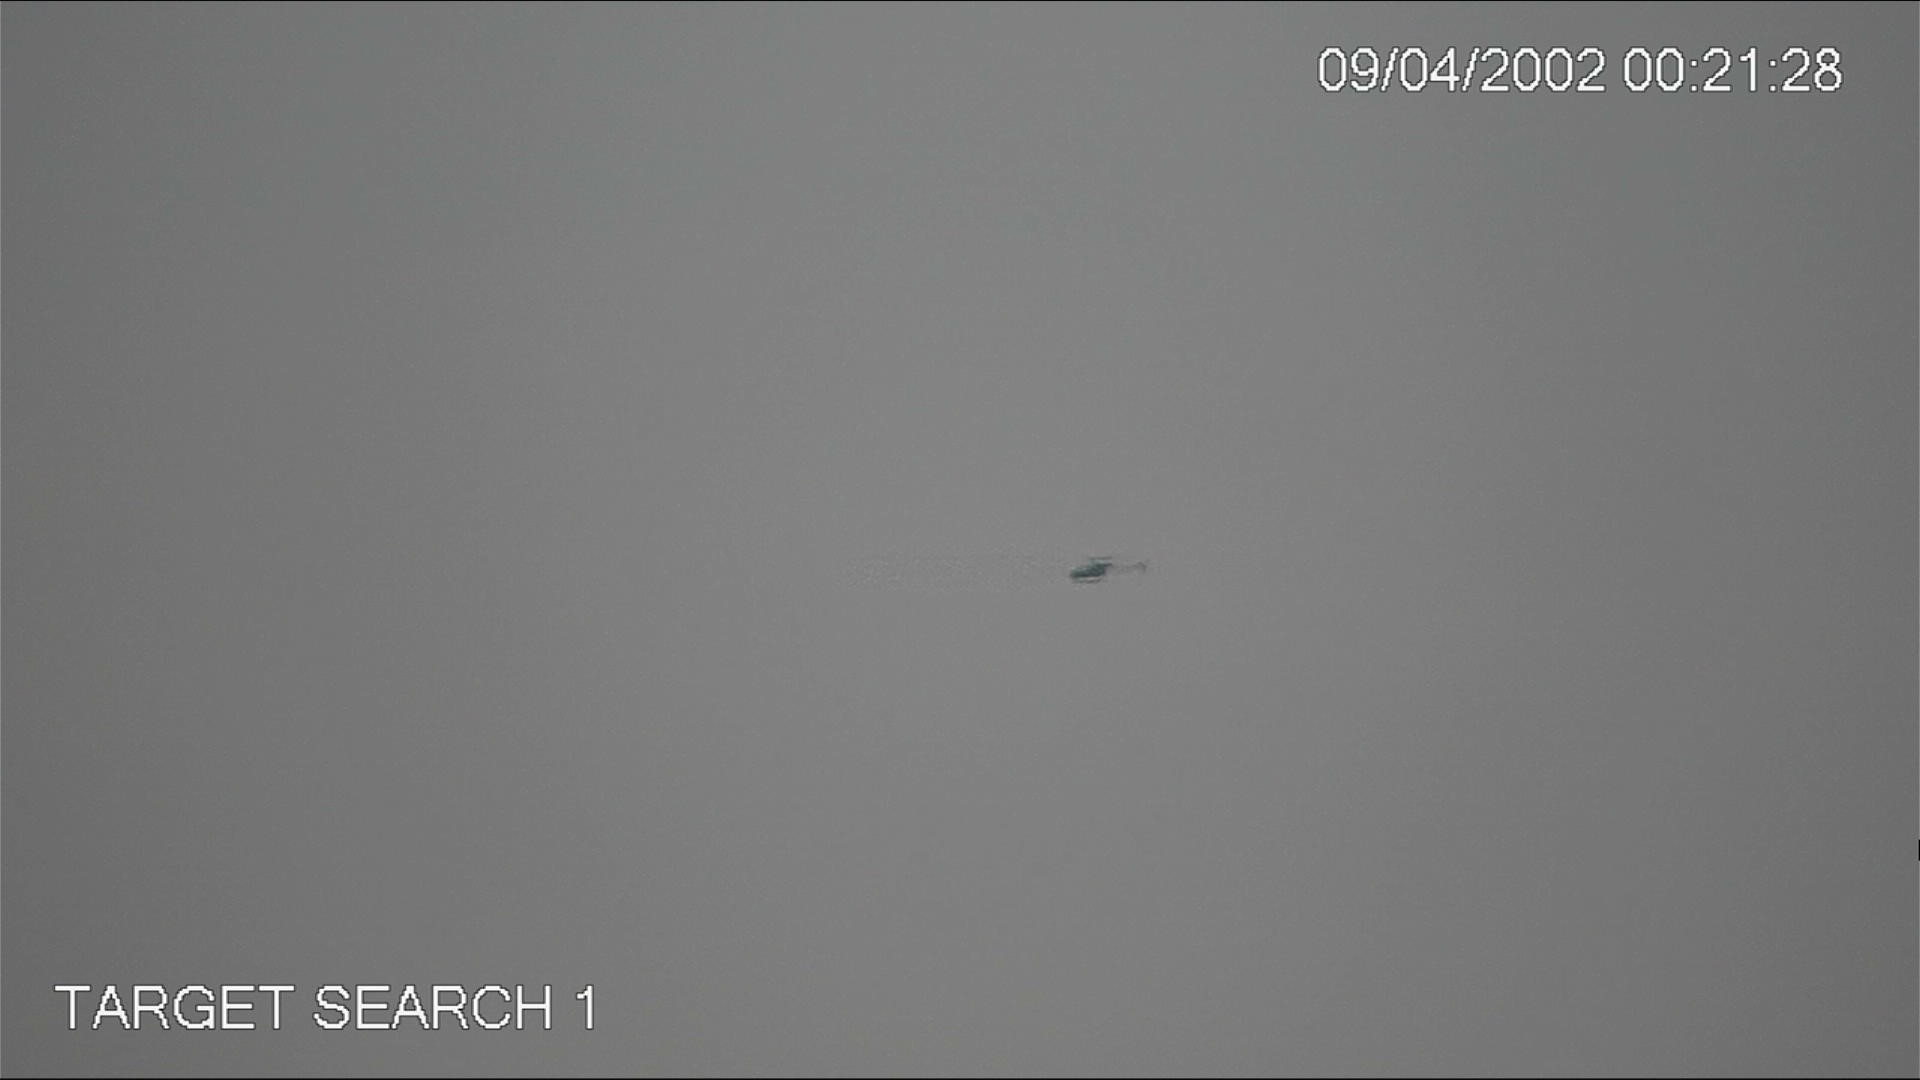SU_30: (1068, 550, 1116, 582)
